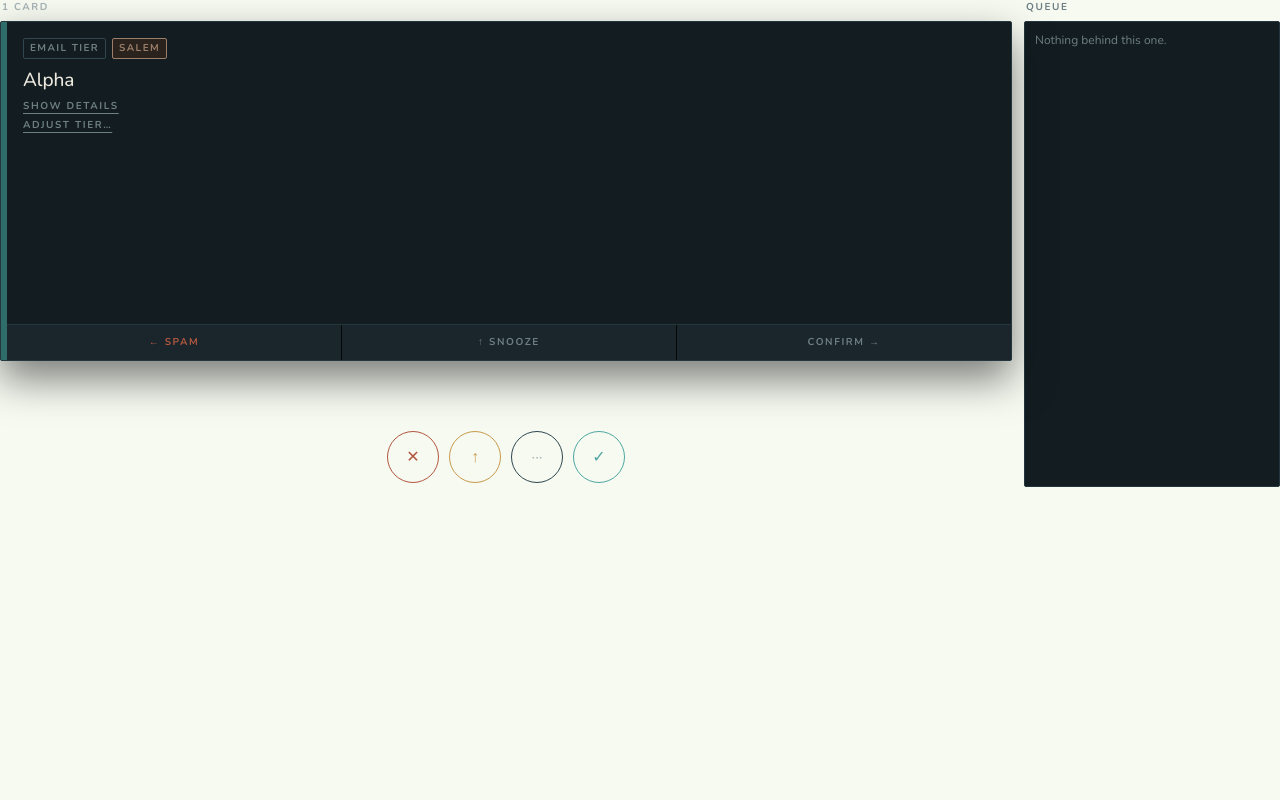
Test: Deck — snoozed drill-down (task #26 render) › deck-clear "View snoozed" opens the panel; Deal now re-deals + shows the empty ILB
Click the button with test id "deck-btn-snooze" at (475, 457), box [449,431,501,483]
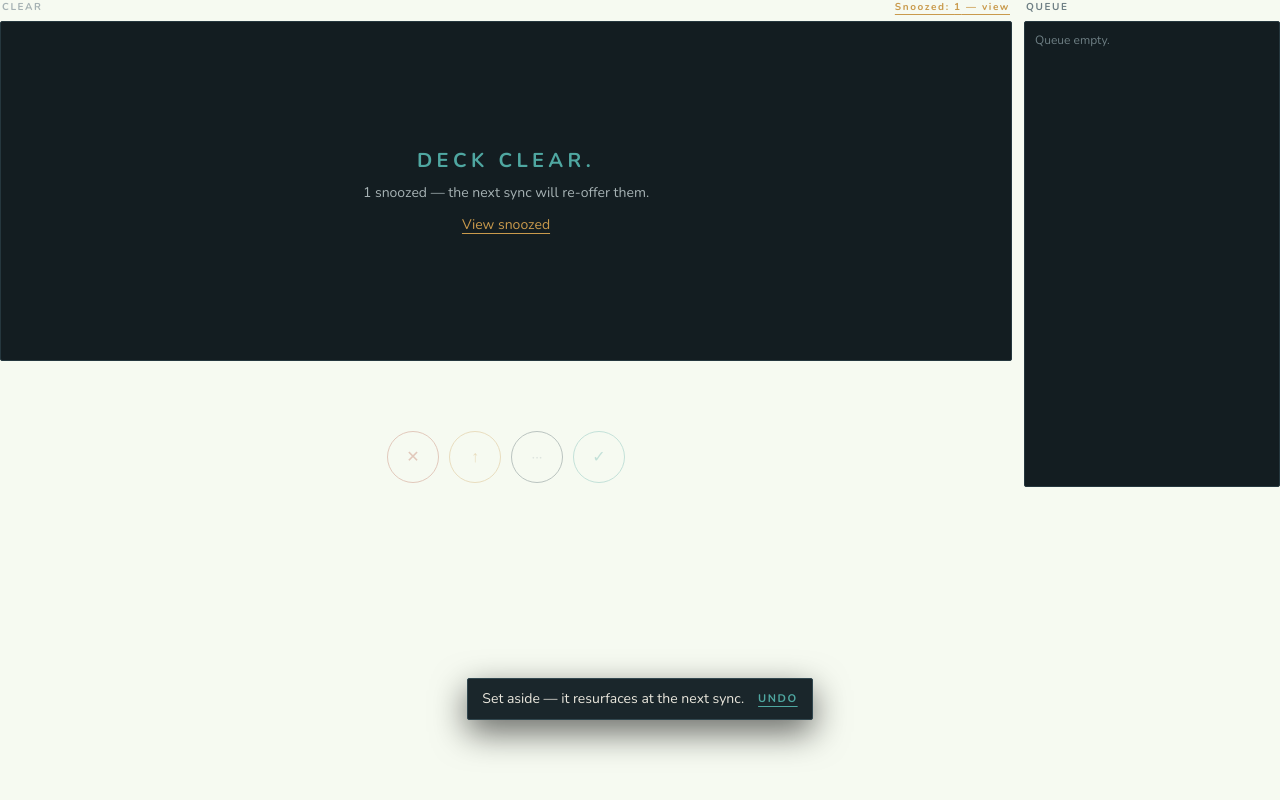
expect the element with test id "deck-cleared" is shown: met, box [0,21,1012,361]
Click the button with test id "deck-cleared-view" at (506, 225), box [462,215,550,235]
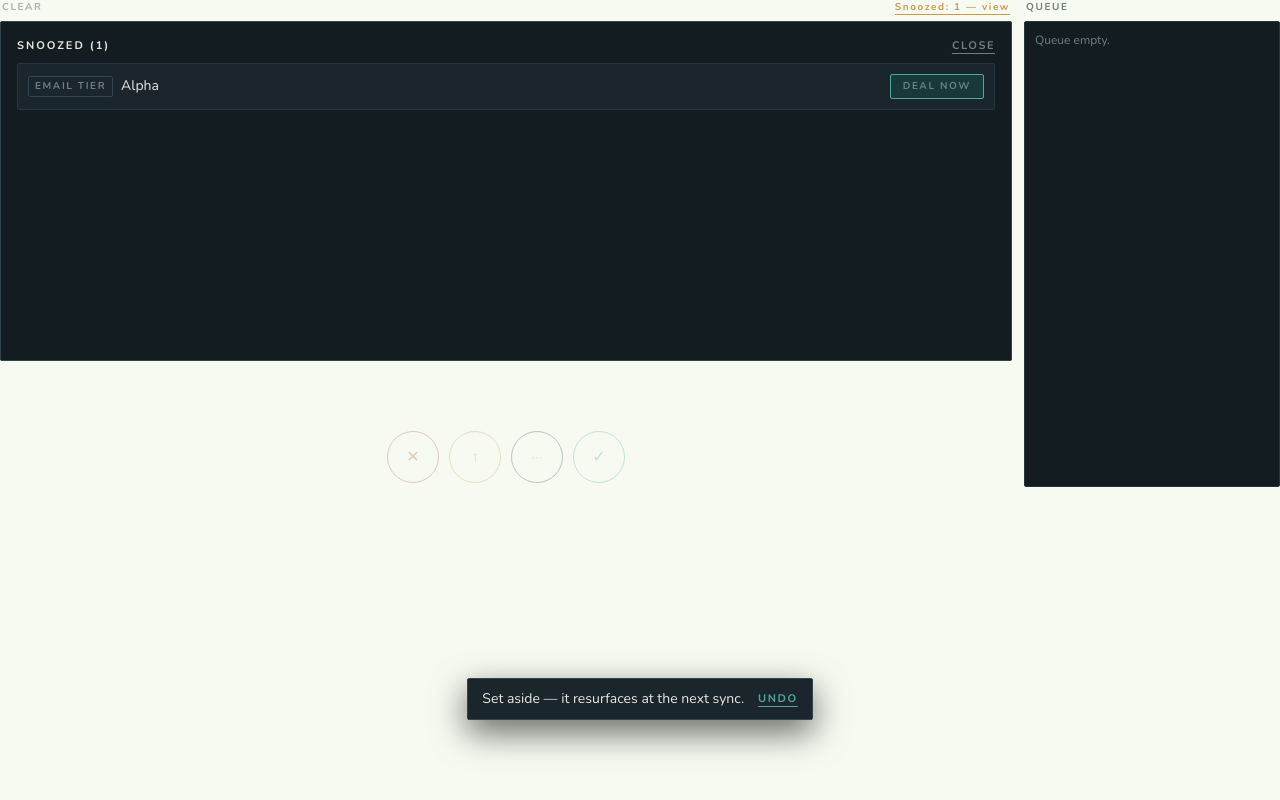
expect the dialog with test id "deck-snoozed-panel" is shown: met, box [0,21,1012,361]
Click the button with test id "deck-snoozed-deal" at (937, 86), box [890,74,984,98]
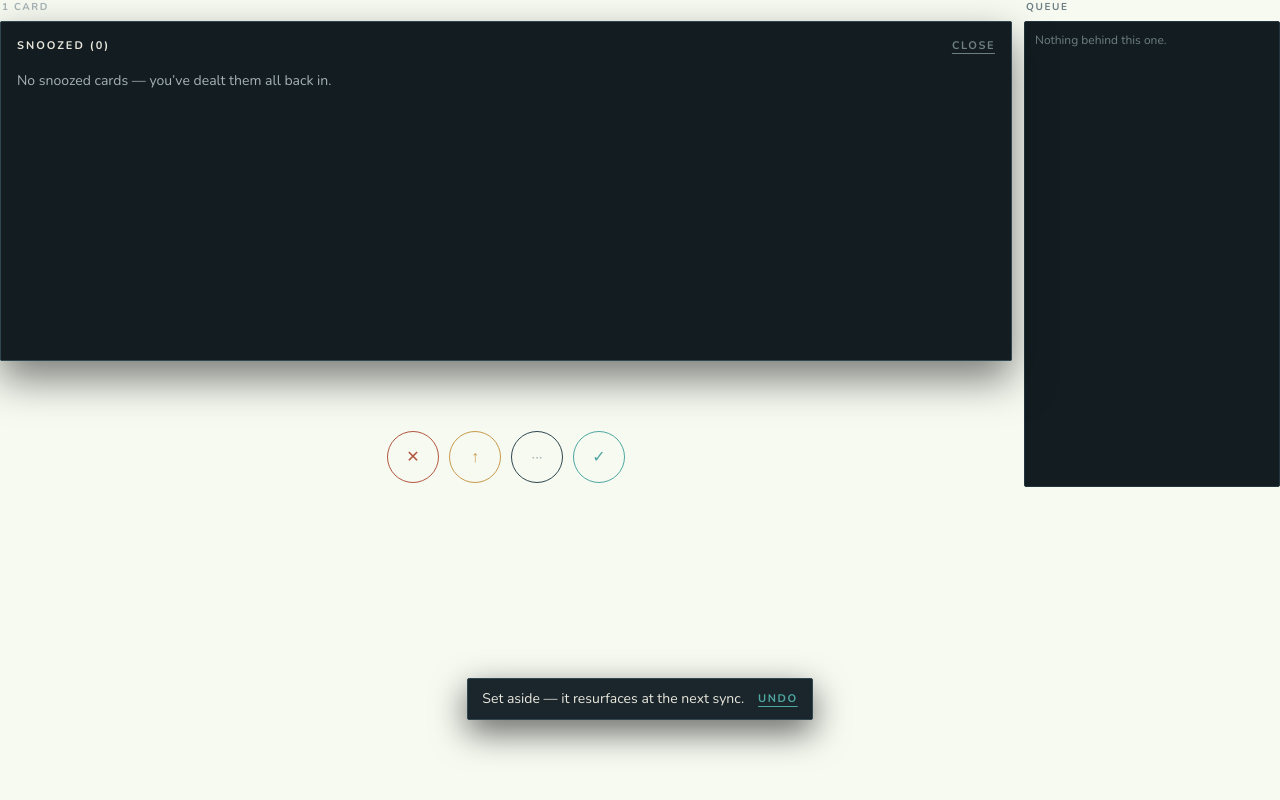
expect the text "No snoozed cards — you’ve dealt them all back in." is shown: met, box [17,70,332,90]
expect the element with test id "deck-cleared" is gone: met
Click the button with test id "deck-snoozed-close" at (973, 46), box [952,38,995,54]
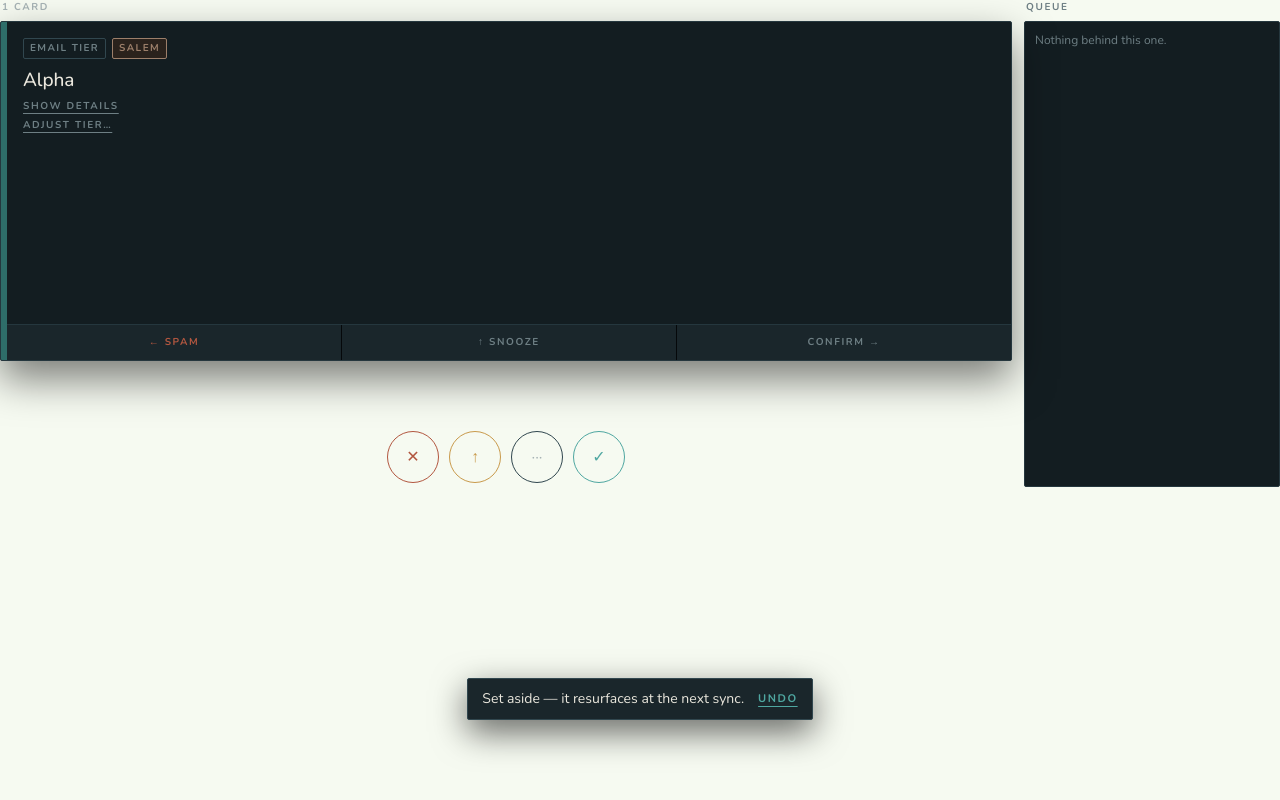
expect the element with test id "deck-card" is shown: met, box [0,21,1012,361]
expect the dialog with test id "deck-snoozed-panel" is gone: met
